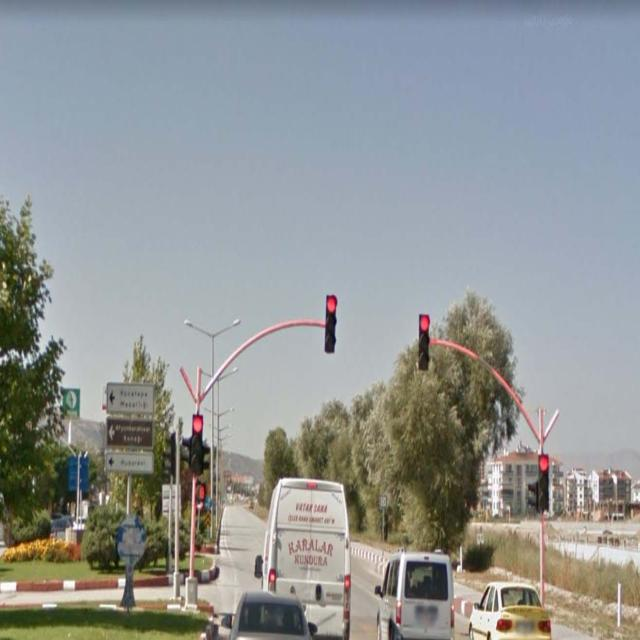kirmizi: (418, 314, 432, 372), (192, 414, 205, 473), (537, 455, 550, 509), (326, 294, 336, 354)
